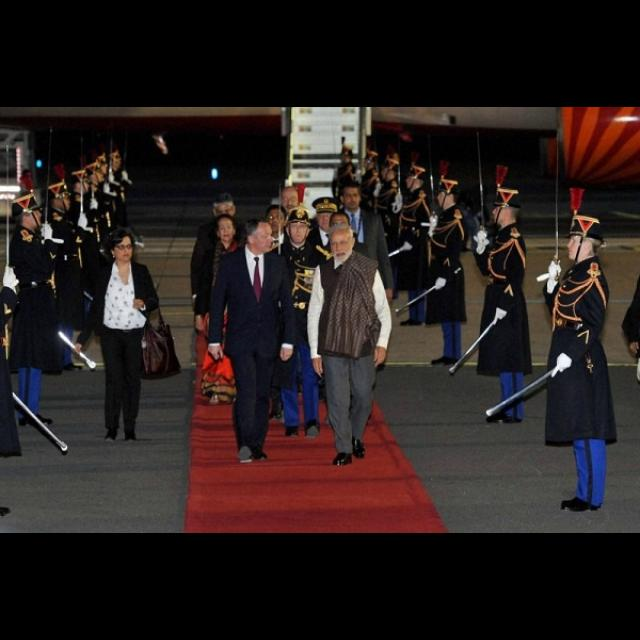head: (565, 228, 599, 262), (328, 226, 356, 264), (246, 218, 274, 254), (287, 212, 313, 245), (110, 230, 134, 264), (492, 200, 522, 227), (18, 200, 44, 230), (214, 194, 238, 226), (317, 200, 339, 232), (436, 184, 462, 210), (340, 182, 362, 212), (266, 208, 290, 235), (216, 216, 237, 244), (51, 188, 73, 214), (282, 188, 302, 214), (406, 170, 426, 190), (380, 160, 398, 182), (340, 150, 356, 164), (364, 157, 376, 171)
person: (54, 228, 184, 446), (534, 216, 620, 516), (200, 216, 298, 467), (306, 225, 394, 471), (258, 205, 342, 442), (472, 175, 534, 428), (6, 190, 66, 432), (299, 195, 365, 407), (190, 192, 260, 380), (326, 179, 386, 369), (194, 212, 258, 390), (266, 185, 320, 391), (37, 176, 89, 380), (419, 170, 471, 372), (255, 202, 305, 400), (390, 160, 440, 330), (330, 143, 376, 283), (358, 150, 398, 288), (371, 156, 407, 304)
